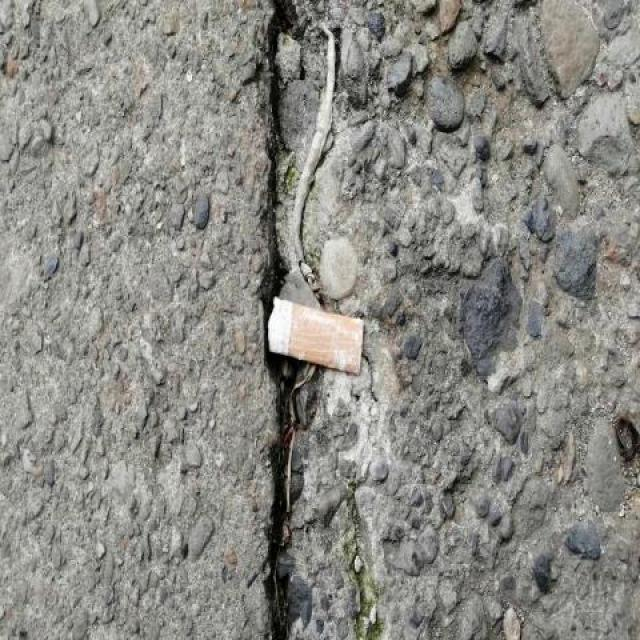non-organic waste: (262, 292, 366, 379)
